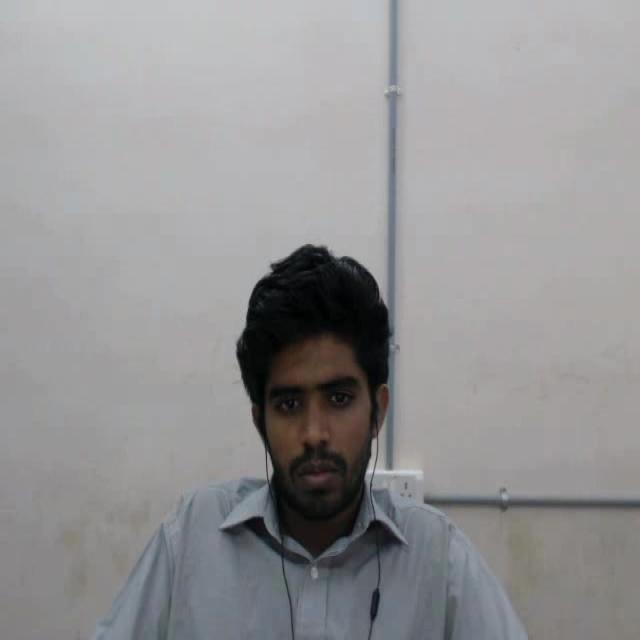Engaged: (204, 224, 415, 566)
